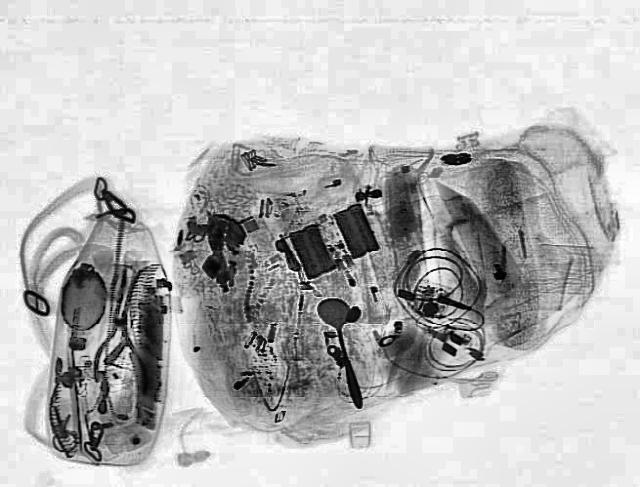Pliers: (87, 266, 157, 394)
